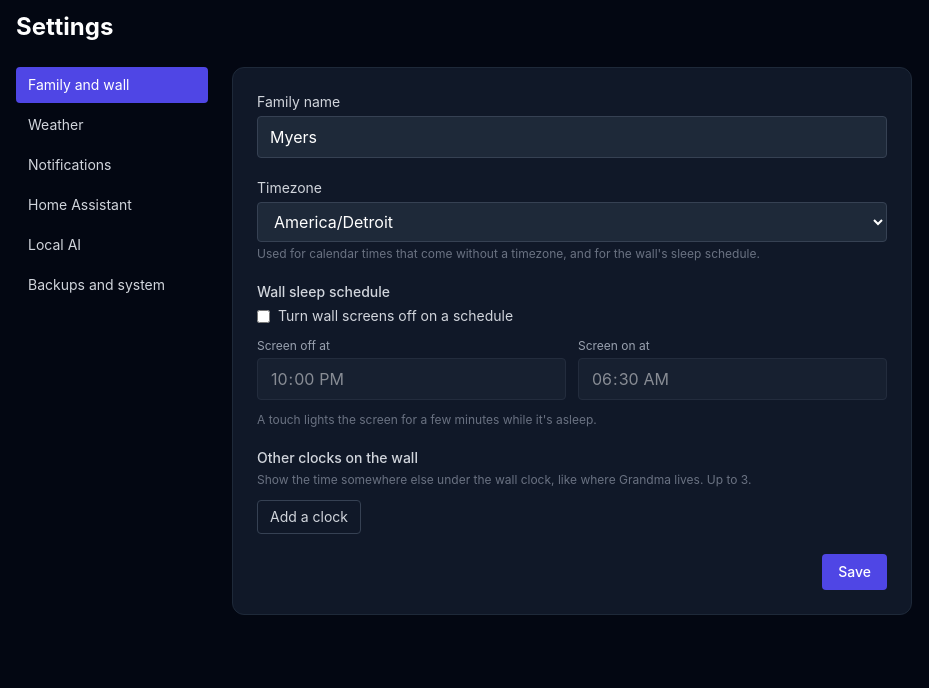
FamilySettings › saves name, timezone and the sleep schedule
Step 1. Replace the text in the field labelled "Family name" with "The Myers" → (572, 137), box [257, 116, 887, 158]
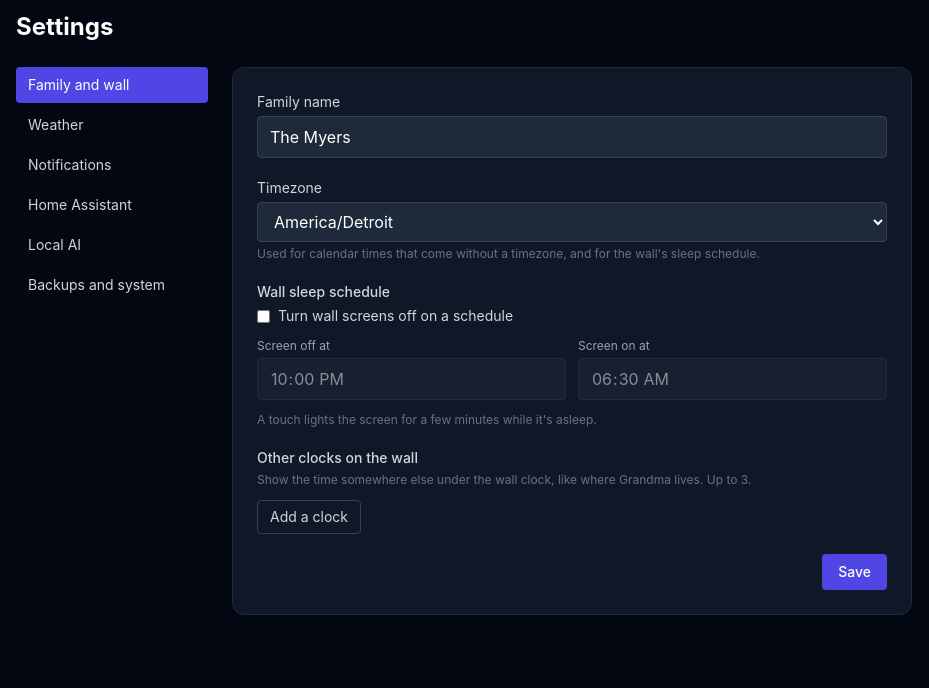
Step 2. Select "Europe/London" in the dropdown labelled "Timezone" → (572, 222), box [257, 202, 887, 242]
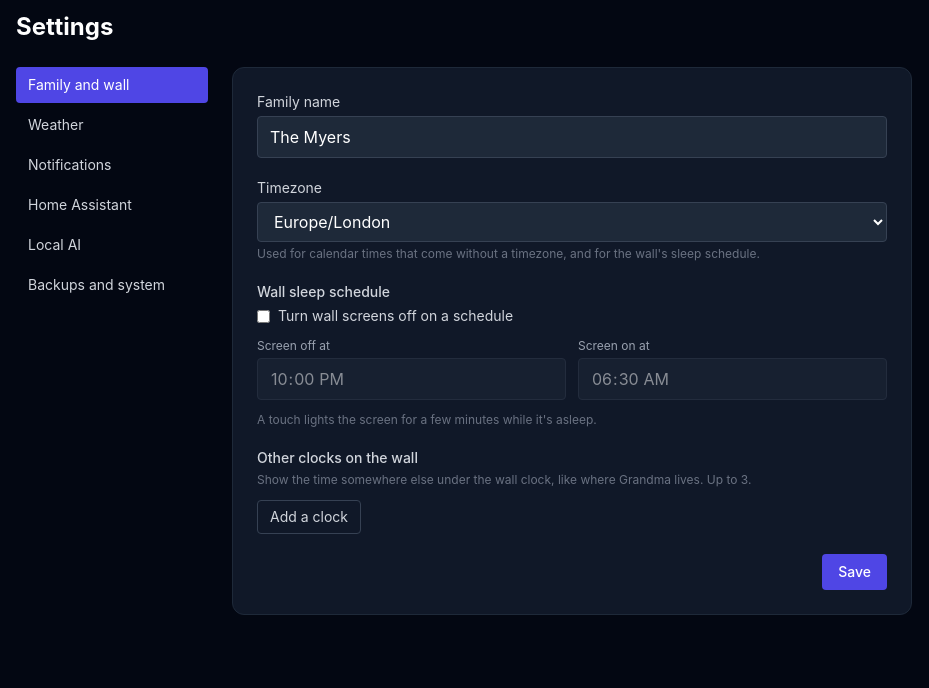
Step 3. Click the checkbox labelled "Turn wall screens off on a schedule" → (264, 316), box [257, 310, 270, 322]
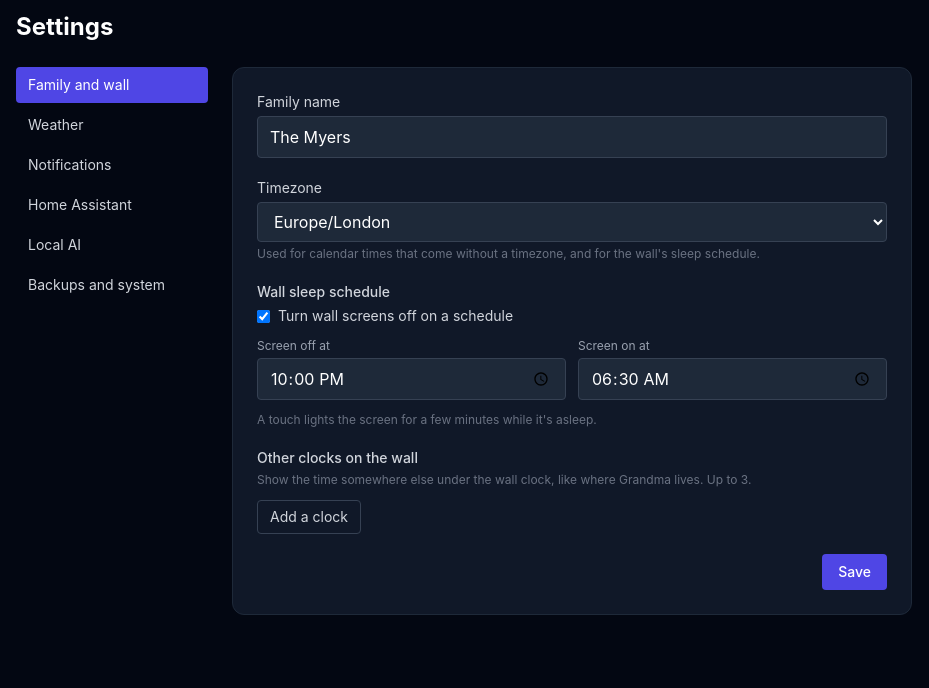
Step 4. Replace the text in the time field labelled "Screen off at" with "21:30" → (412, 379), box [257, 358, 566, 400]
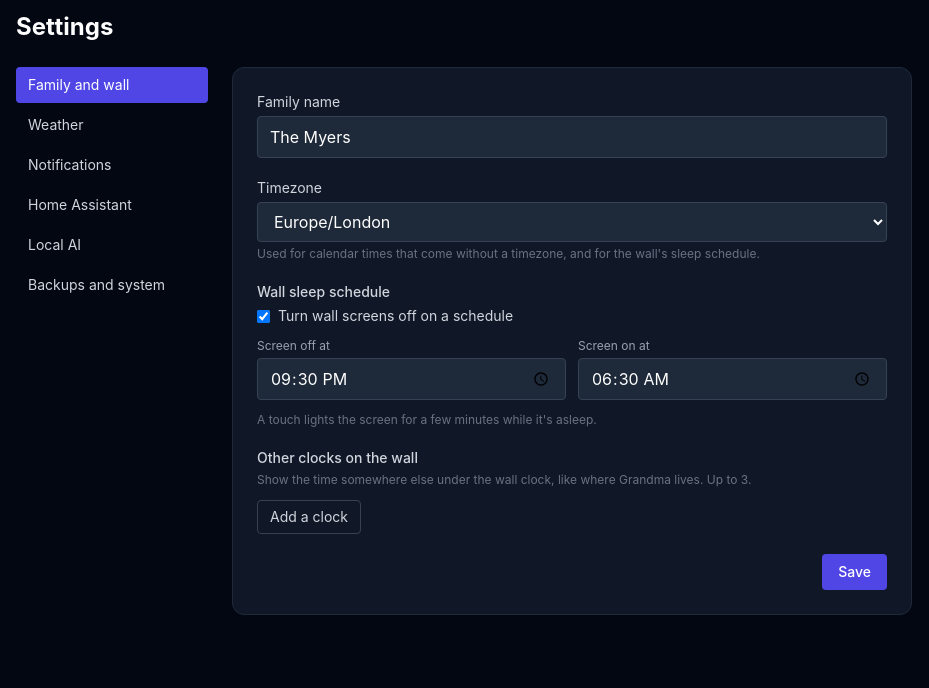
Step 5. Replace the text in the time field labelled "Screen on at" with "07:00" → (732, 379), box [578, 358, 887, 400]
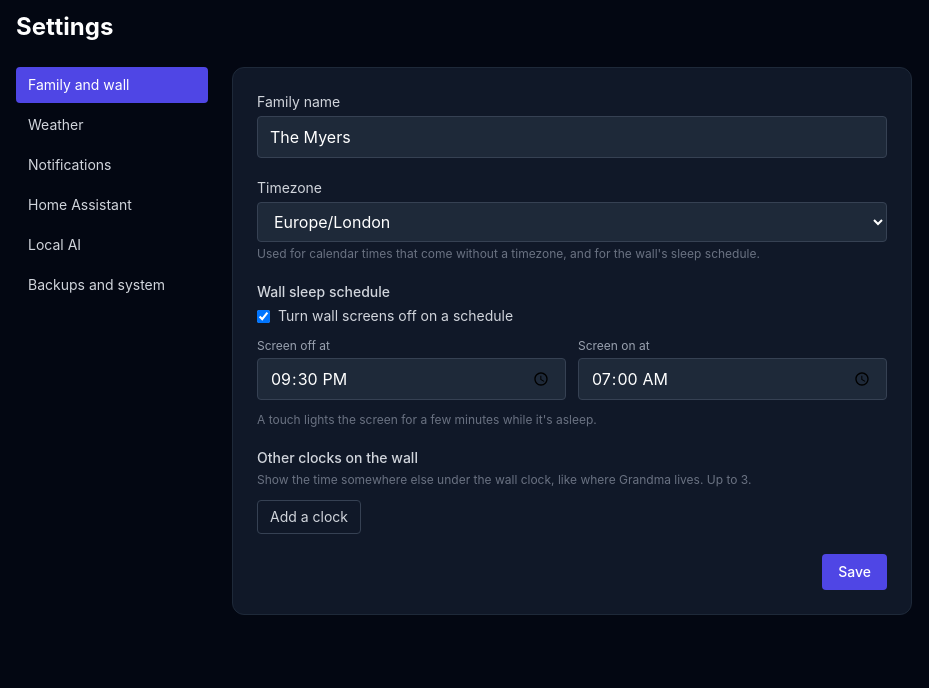
Step 6. Click the button "Save" → (855, 572), box [822, 554, 887, 590]
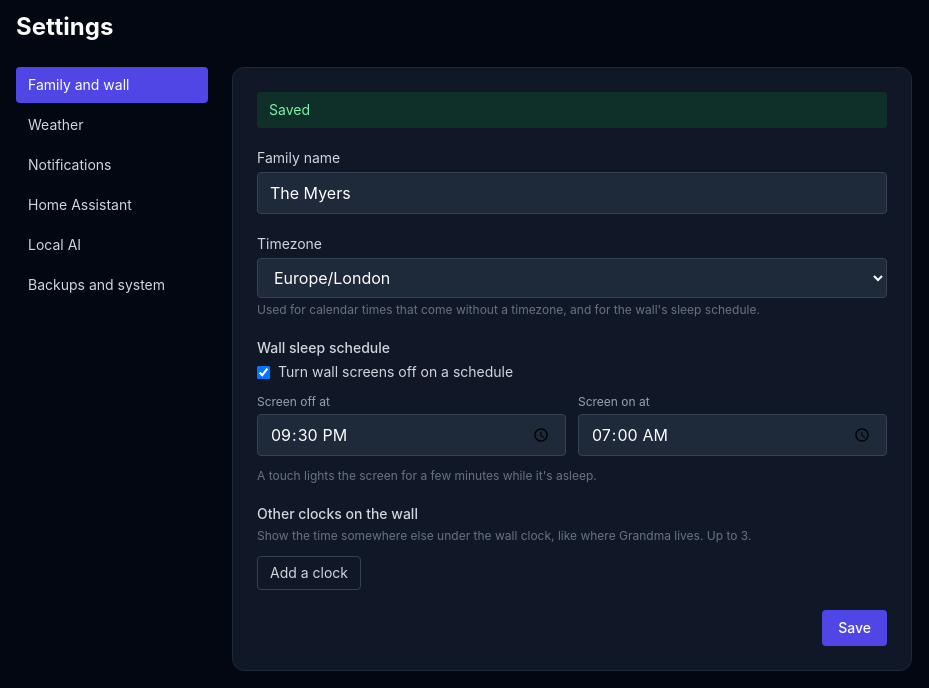
Check: the text "Saved" is shown, box [257, 92, 887, 128]
